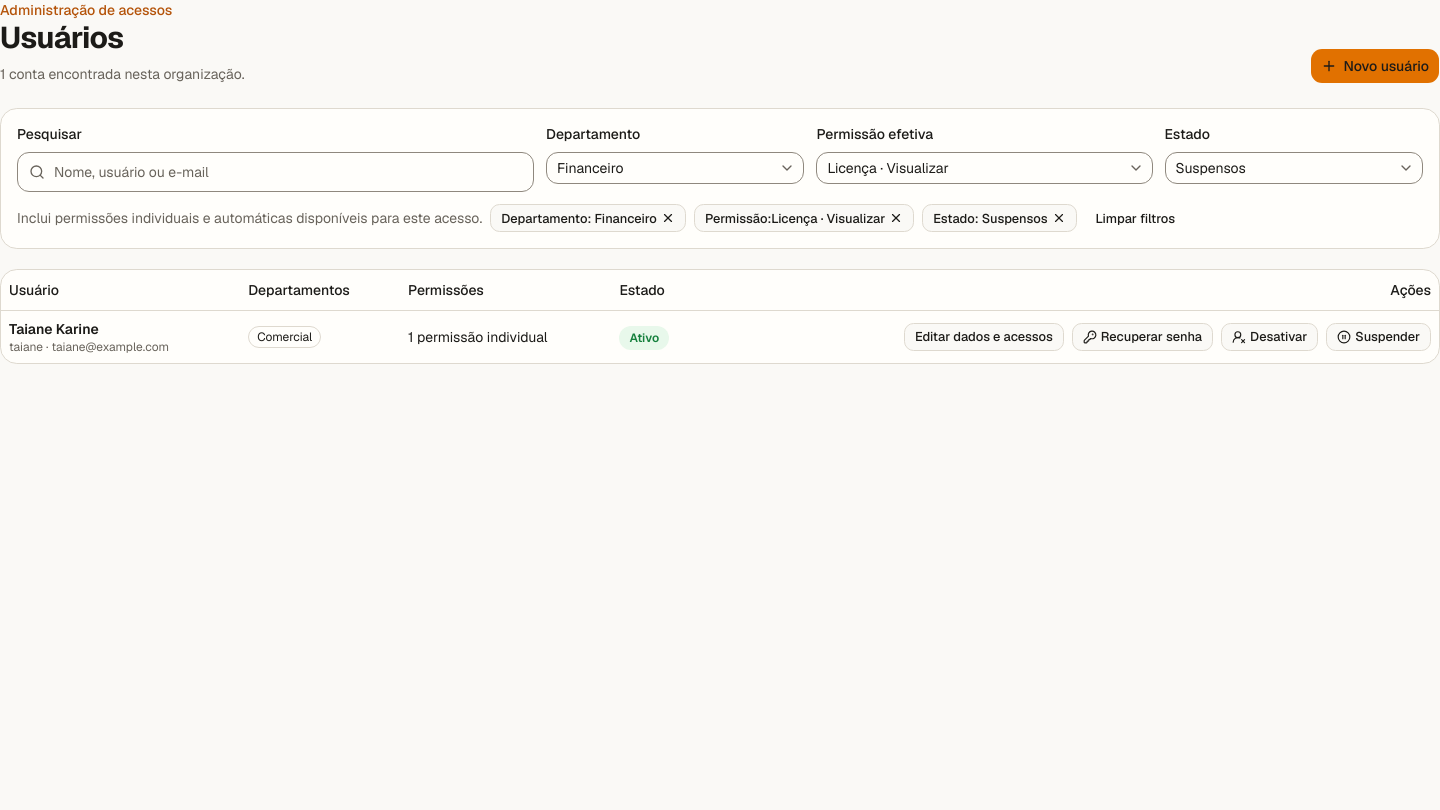
Test: users management permissions › renders Portuguese labels for every selected filter and suspension period
Expected: the dropdown named "Departamento" shows "Financeiro", [546, 152, 804, 184]
Expected: the dropdown named "Permissão efetiva" shows "Licença · Visualizar", [816, 152, 1152, 184]
Click the button "Suspender".
click(1379, 337)  # box [1326, 323, 1431, 351]
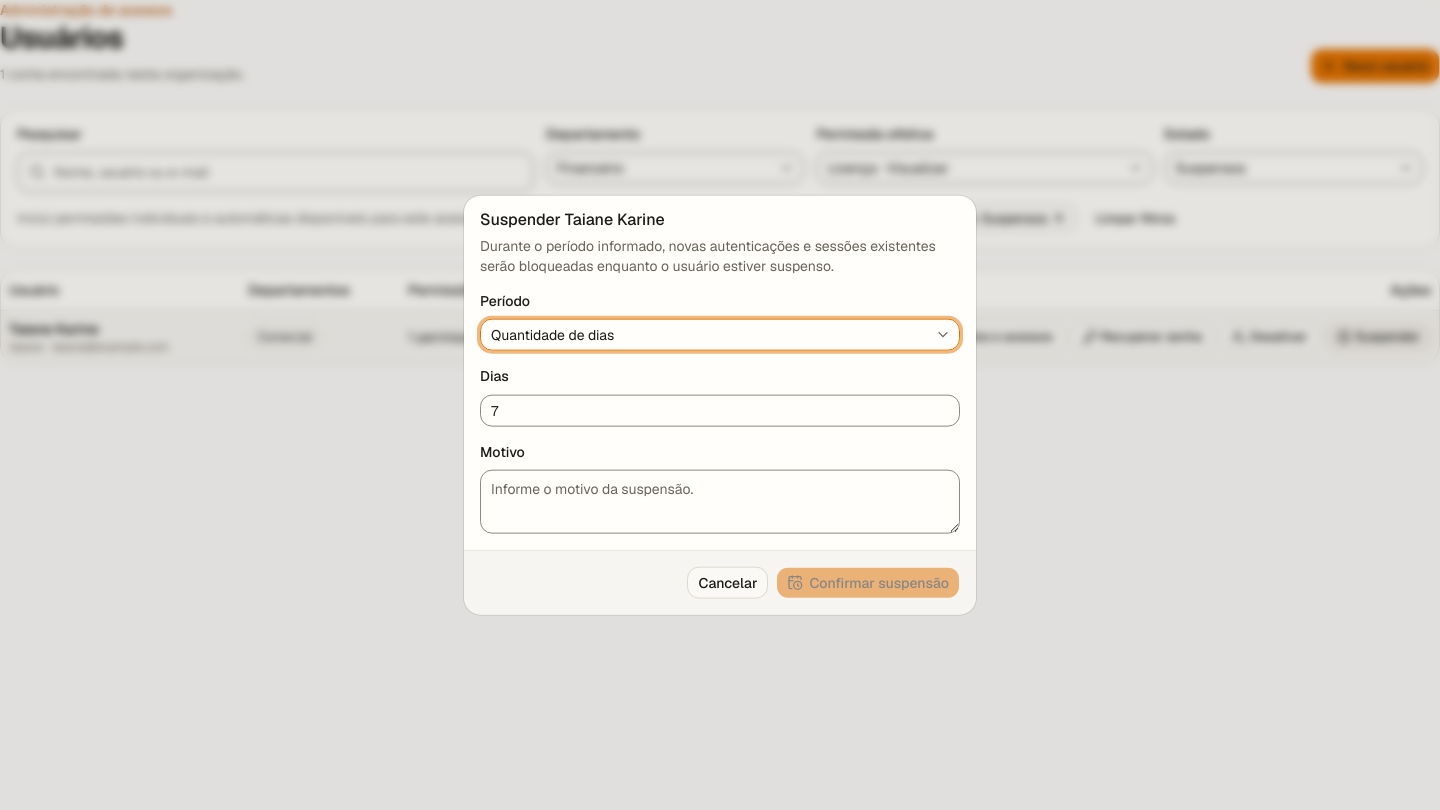
Expected: the dropdown named "Período" shows "Quantidade de dias", [480, 319, 960, 351]
